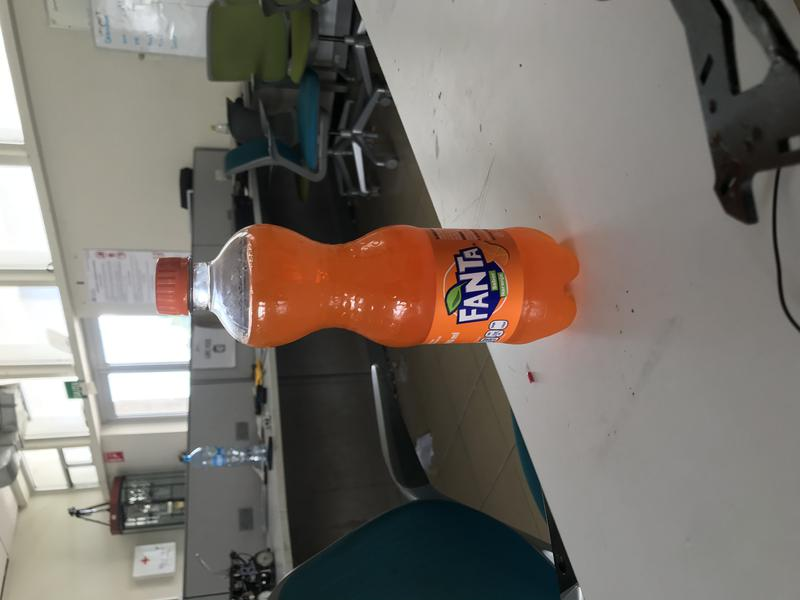fanta: (157, 222, 583, 350)
